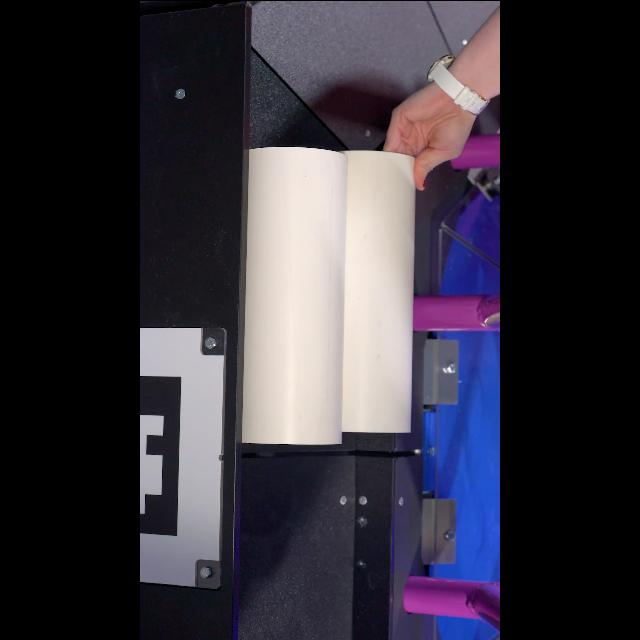CORAL: (242, 145, 348, 445), (343, 148, 417, 434)
